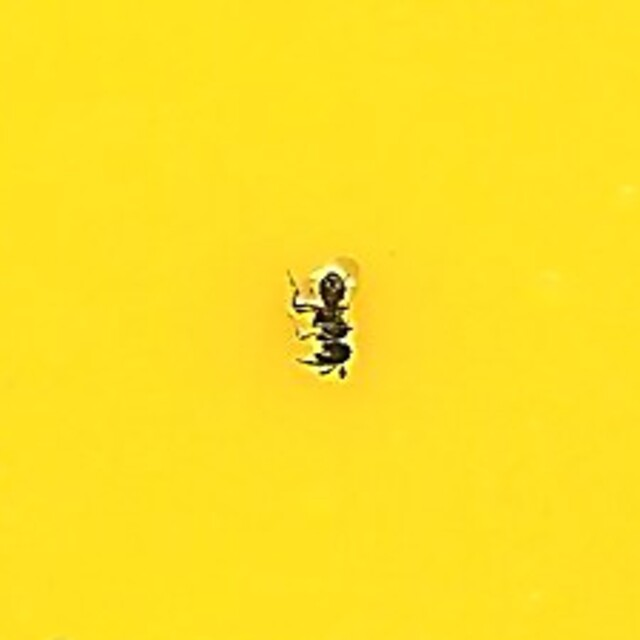Hymenoptera: (284, 256, 356, 384)
